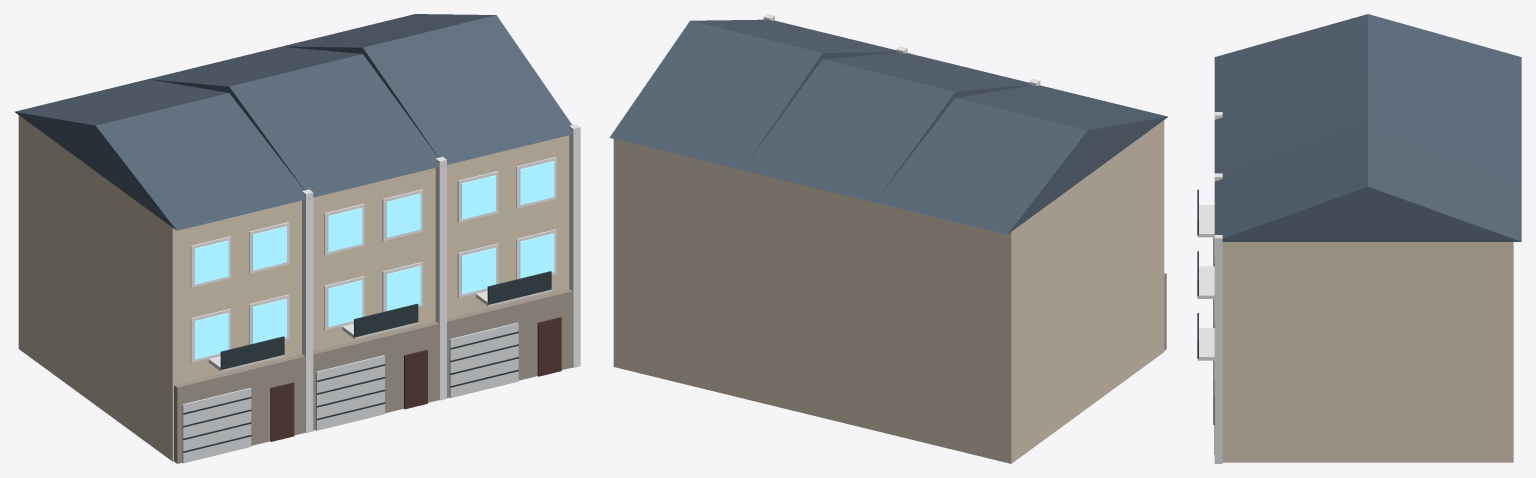
The model's file is town_townhouses.glb.
3 renders of one model, left to right at view 1: azimuth 30°, elevation 25°; view 2: azimuth 150°, elevation 25°; view 3: azimuth 270°, elevation 25°, orthographic. The views are drawn at different scales.
Visible parts, largest first — view 1: TownTownhouses_body; view 2: TownTownhouses_body; view 3: TownTownhouses_body.
Boxes of the visible parts, left/top/right/bottom form: TownTownhouses_body: left=14, top=14, right=580, bottom=463; TownTownhouses_body: left=609, top=14, right=1167, bottom=463; TownTownhouses_body: left=1197, top=14, right=1521, bottom=463.
Size of the model in its own units: 16.62 by 11.5 by 12.25.
